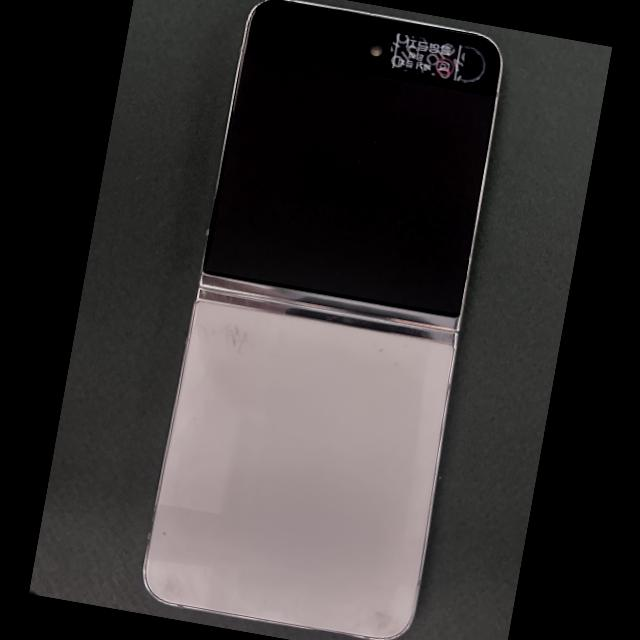lens: (461, 47, 486, 82)
phone: (143, 0, 500, 639)
sticker: (387, 32, 466, 81)
